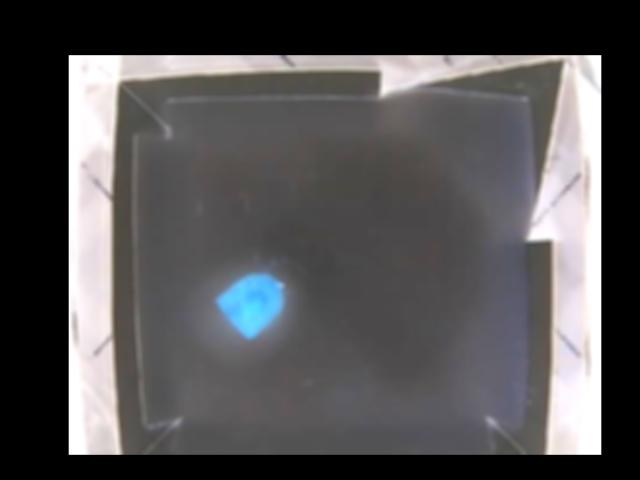Carrot: (215, 274, 283, 336)
